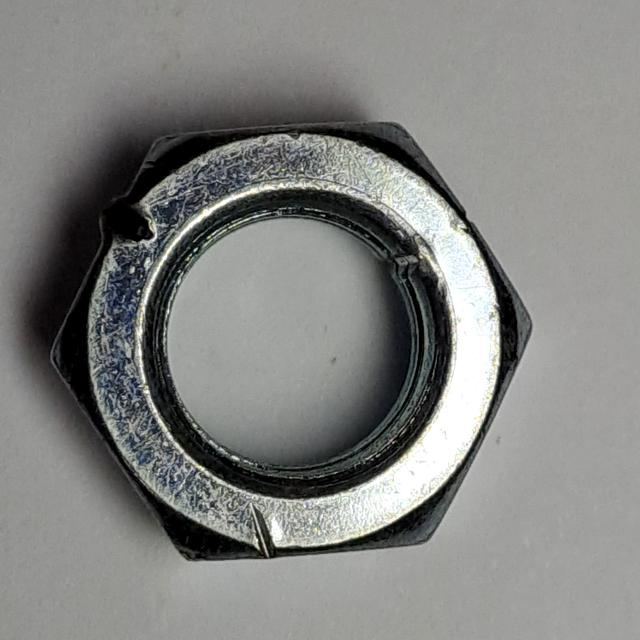Scratches: (36, 107, 545, 580)
